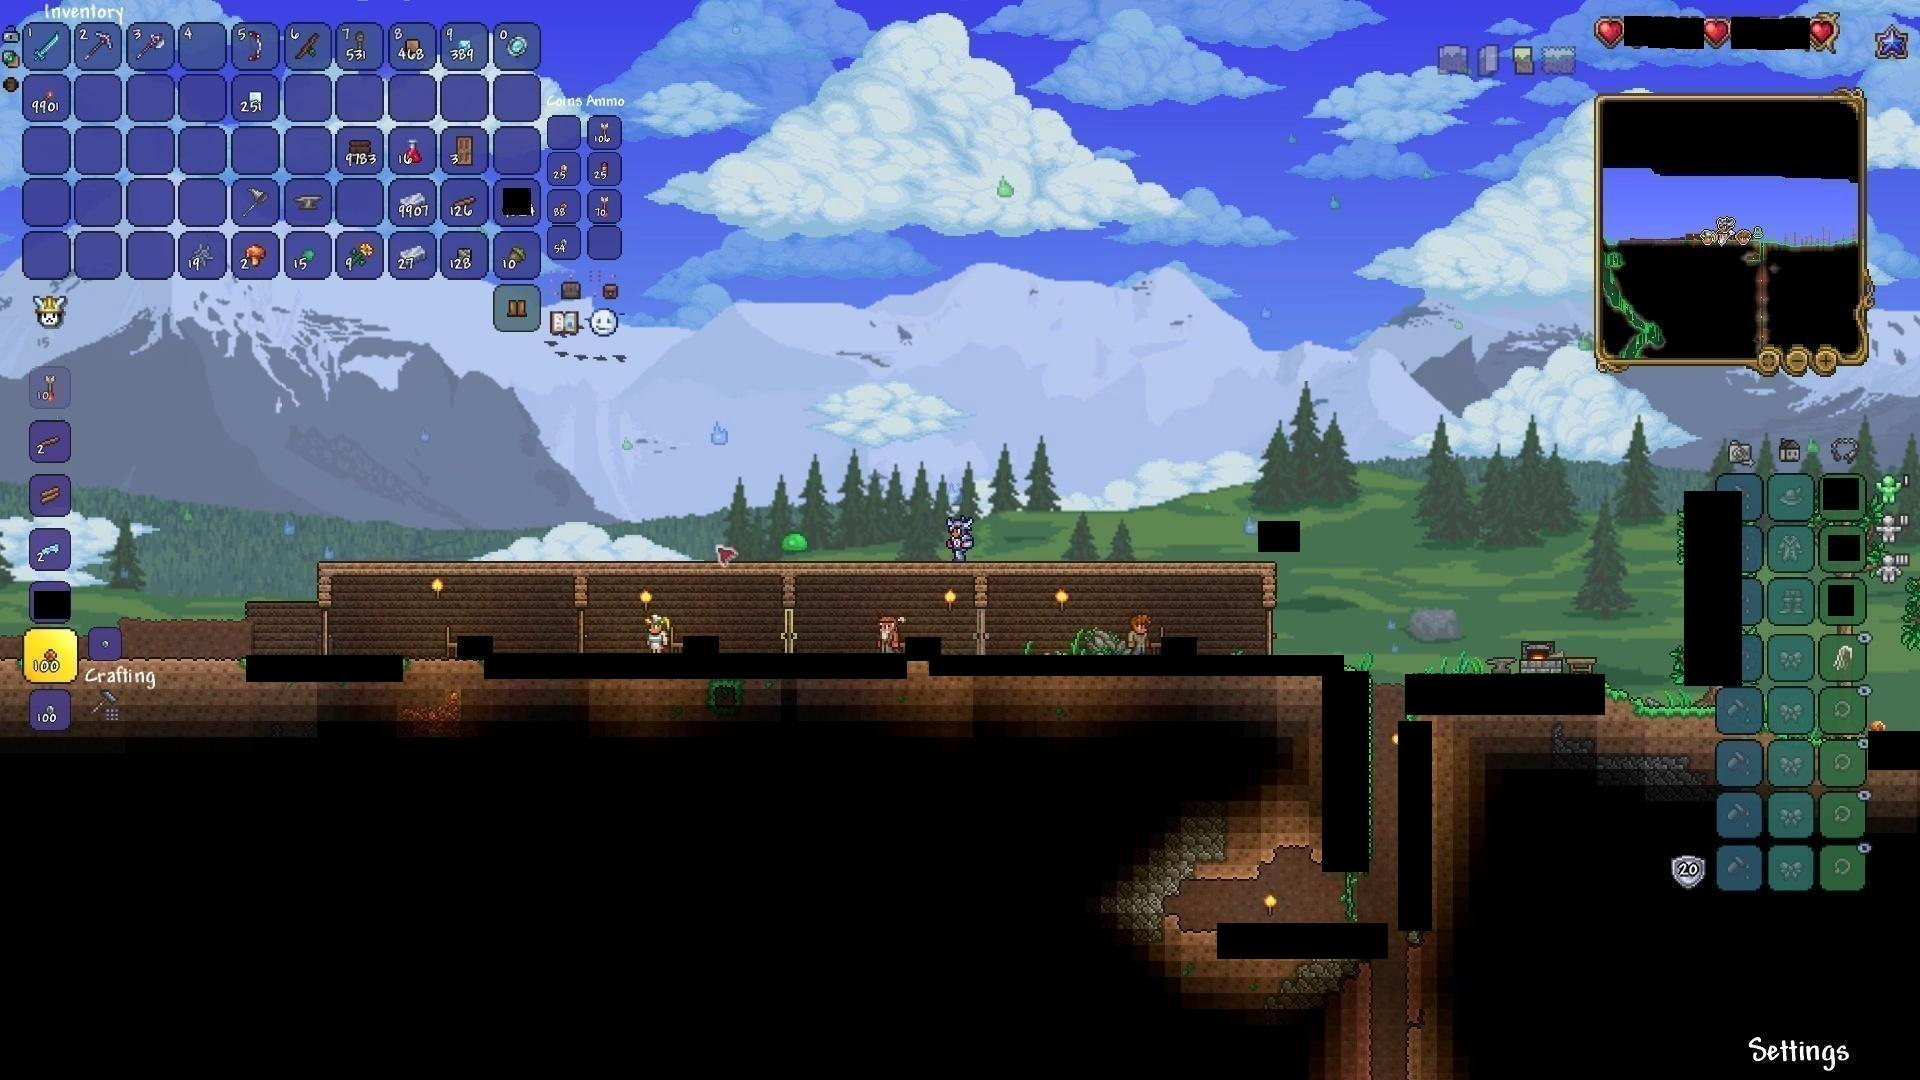dirt: (1604, 692, 1714, 731)
heart: (1702, 18, 1731, 49), (1808, 16, 1836, 45), (1596, 16, 1625, 44)
legs: (504, 291, 529, 322)
slime: (775, 525, 814, 554)
wood: (36, 480, 62, 505)
workbench: (1564, 654, 1600, 676)
